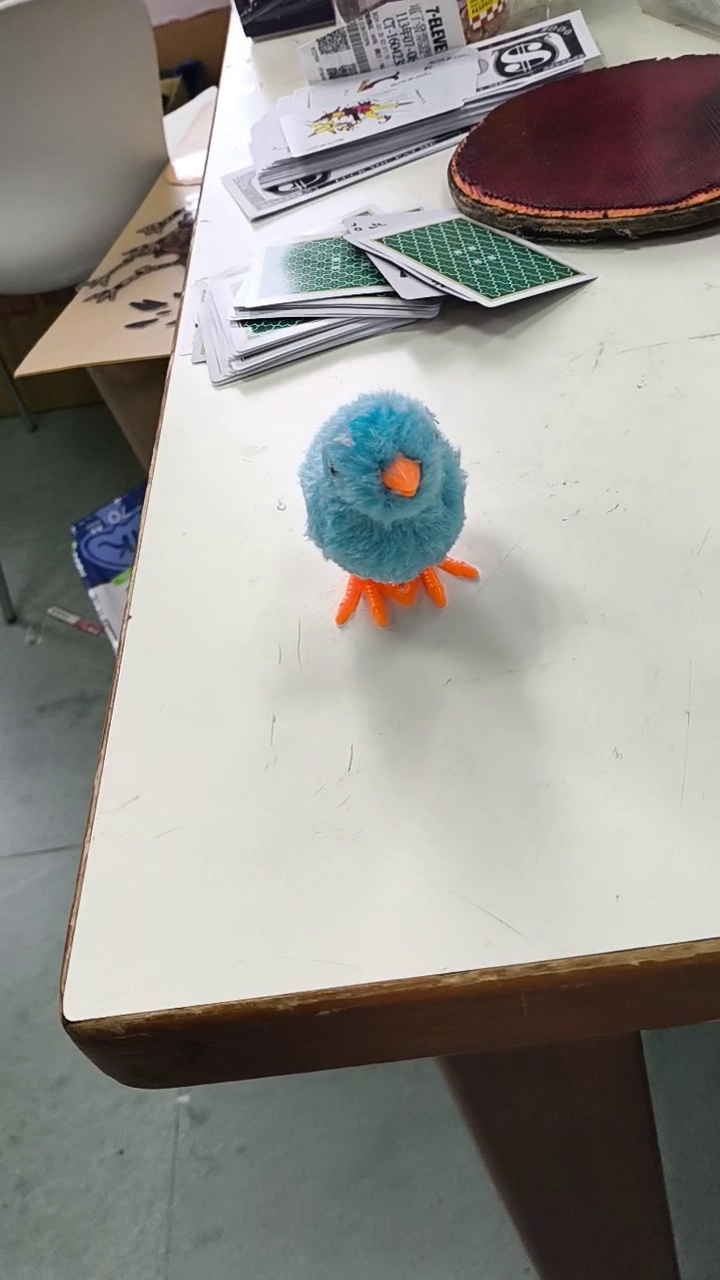blue chicken: (290, 385, 489, 633)
